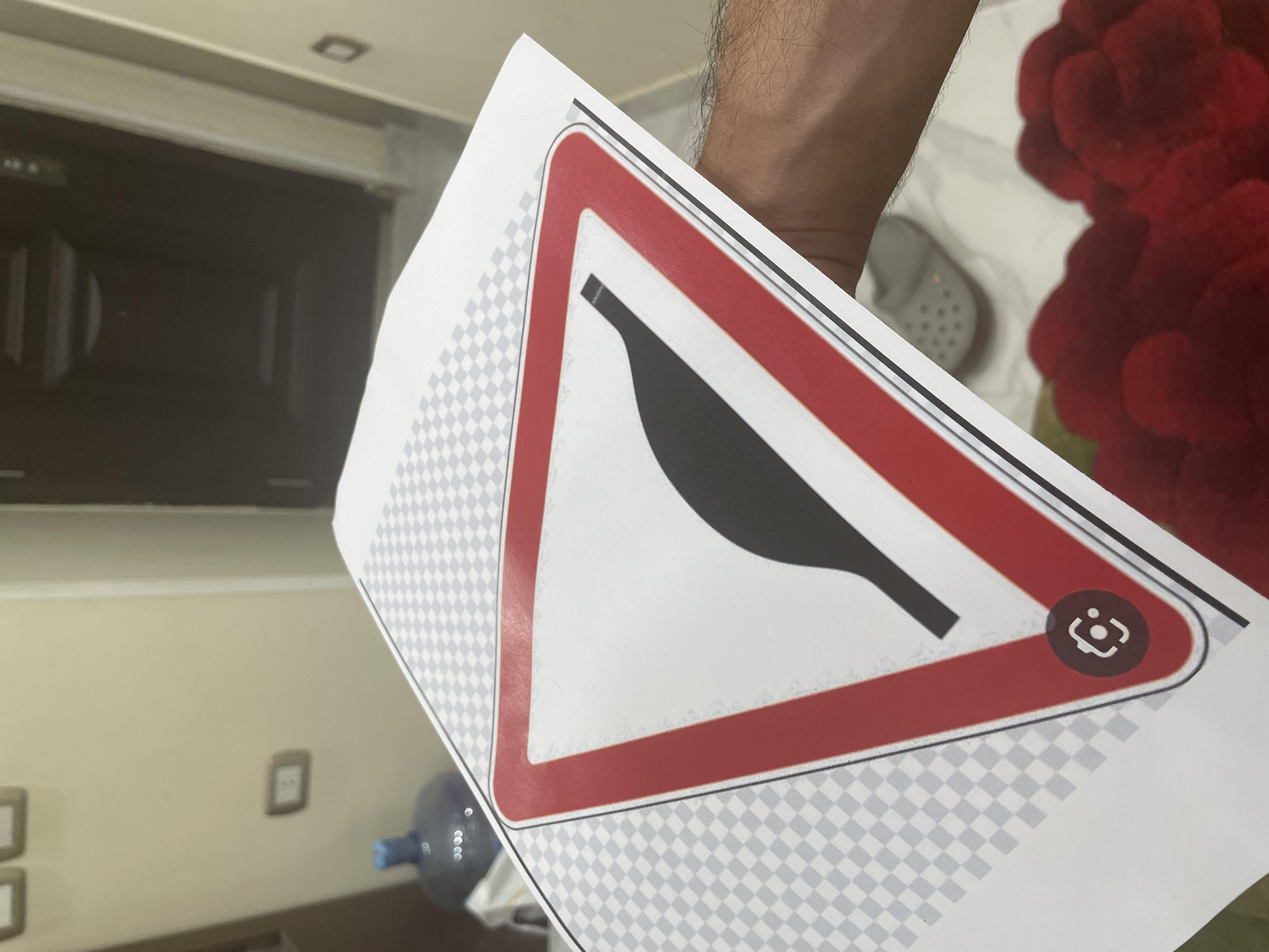Hump: (140, 369, 1109, 917)
